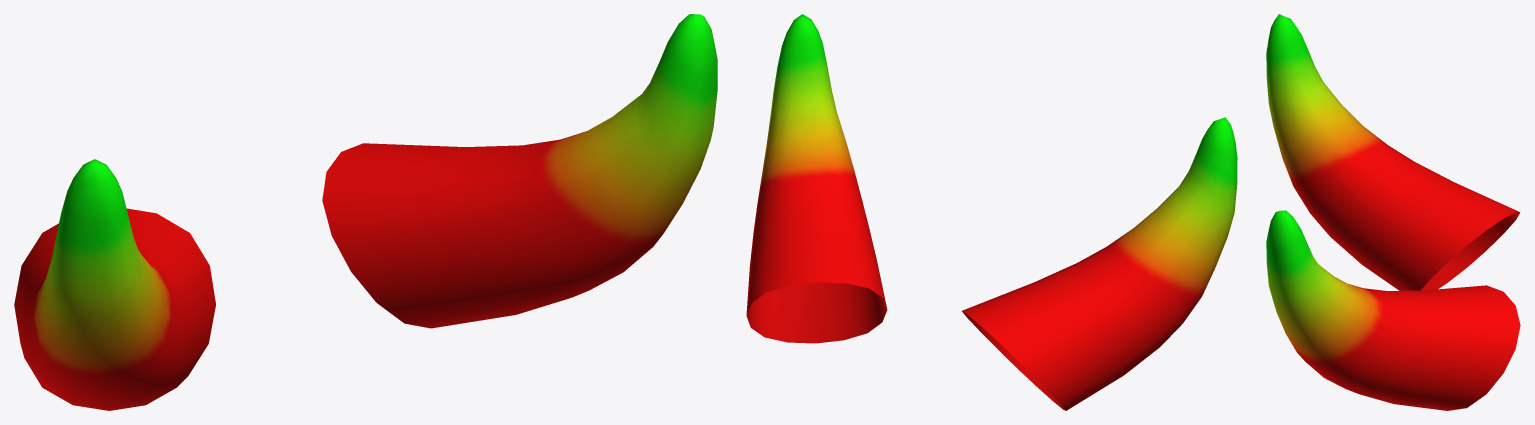
File: BSMC_Outfit_Head_Horns.obj
3 renders of one model, left to right at view 1: azimuth 30°, elevation 25°; view 2: azimuth 150°, elevation 25°; view 3: azimuth 270°, elevation 25°, orthographic. The views are drawn at different scales.
Parts seen in each view (by area): view 1: BSMC_Outfit_Head_Horns_0; view 2: BSMC_Outfit_Head_Horns_0; view 3: BSMC_Outfit_Head_Horns_0.
Boxes of the visible parts, x1=… form: BSMC_Outfit_Head_Horns_0: x1=14, y1=14, x2=717, y2=410; BSMC_Outfit_Head_Horns_0: x1=746, y1=14, x2=1237, y2=410; BSMC_Outfit_Head_Horns_0: x1=1266, y1=14, x2=1520, y2=410.
Bounding box in the file's own units: 0.2071 × 0.1077 × 0.1046.
Materials: 1 (1 with a texture image).
